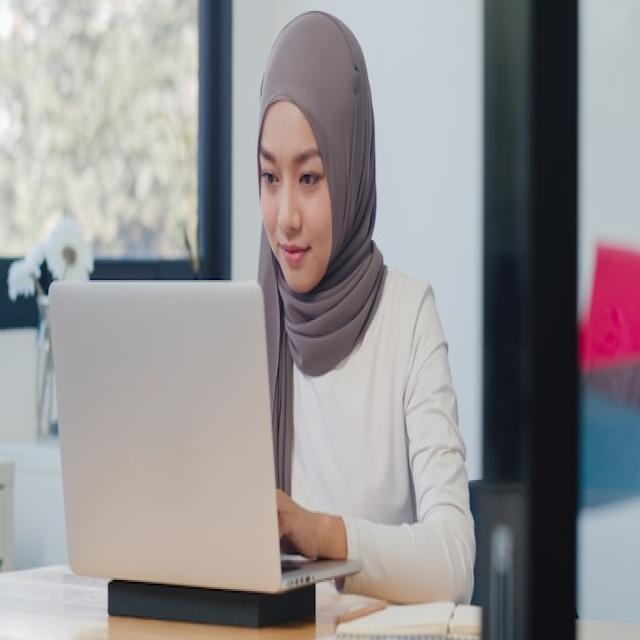Person: (258, 11, 476, 602)
